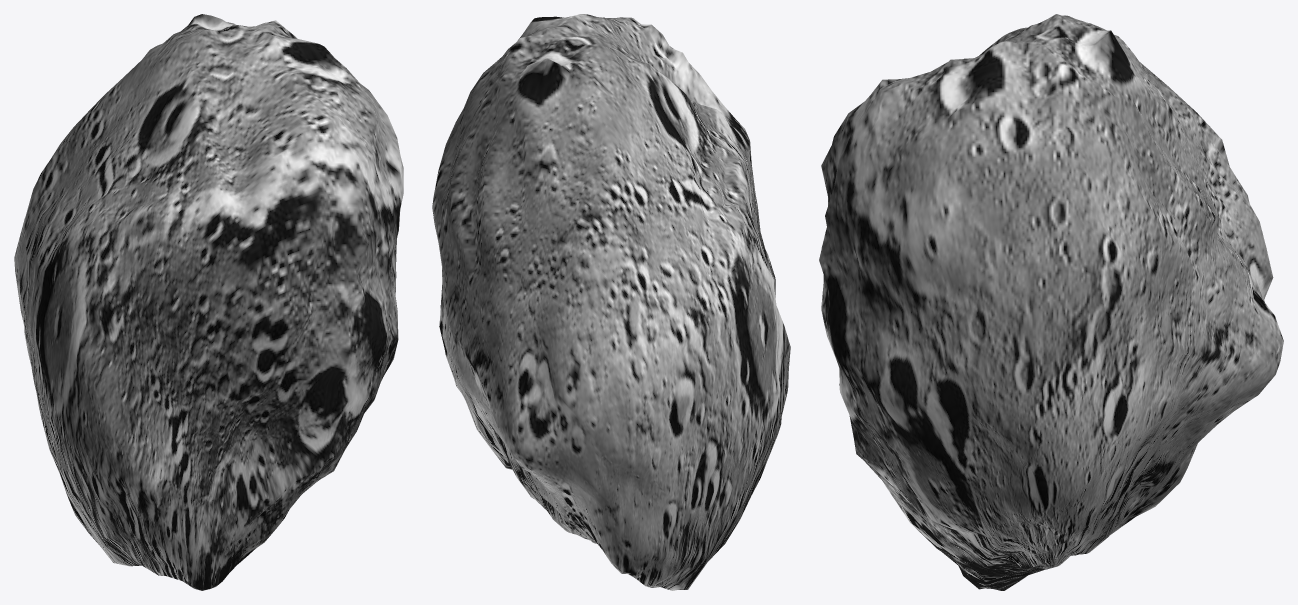
Rendered from meteor.fbx.
3 views of the same model, side by side, from view 1: azimuth 30°, elevation 25°; view 2: azimuth 150°, elevation 25°; view 3: azimuth 270°, elevation 25° (orthographic). The views are drawn at different scales.
Parts seen in each view (by area): view 1: Sphere001; view 2: Sphere001; view 3: Sphere001.
Boxes of the visible parts, x1,y1,x2,y2 form: Sphere001: (14,14,403,590); Sphere001: (432,14,790,590); Sphere001: (819,14,1283,590).
Size of the model in its own units: 50.65 by 81.34 by 57.89.
